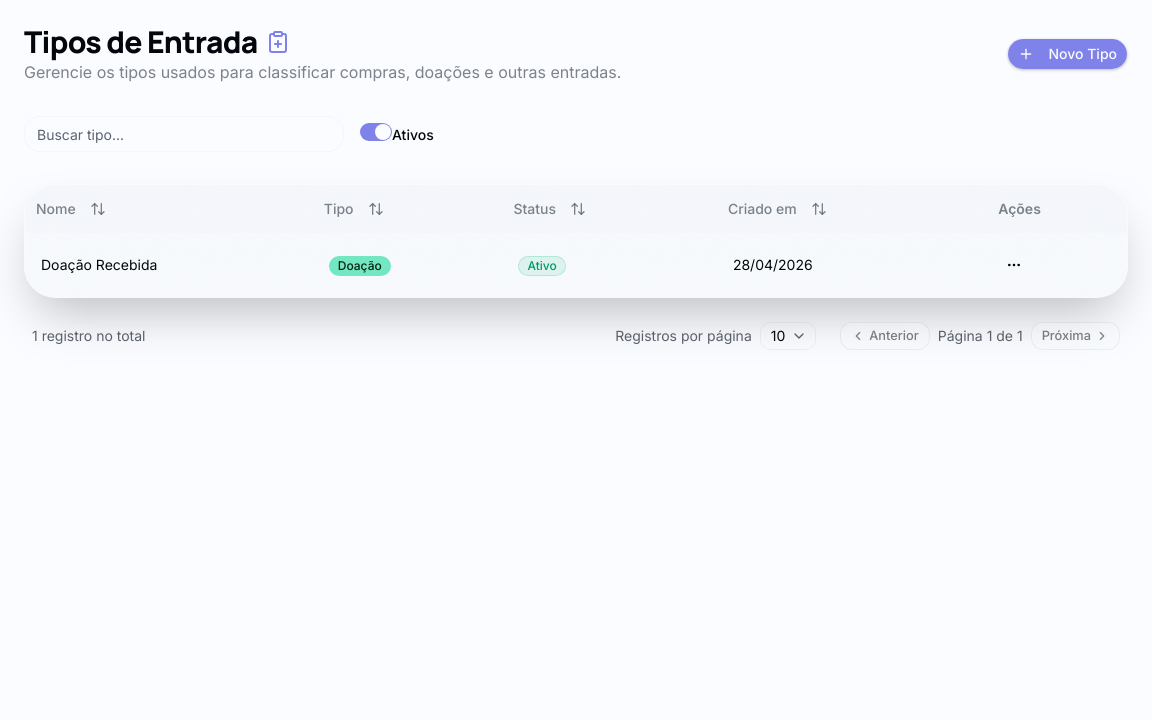
Scenario: TiposEntradaPage › can open delete dialog and confirm
Check: the text "Doação Recebida" is shown, box [25,233,313,297]
What coordinates should you click on to do the following:
click the button named "abrir menu"
I would click on:
 (1014, 265)
Its box is [998,249,1030,281].
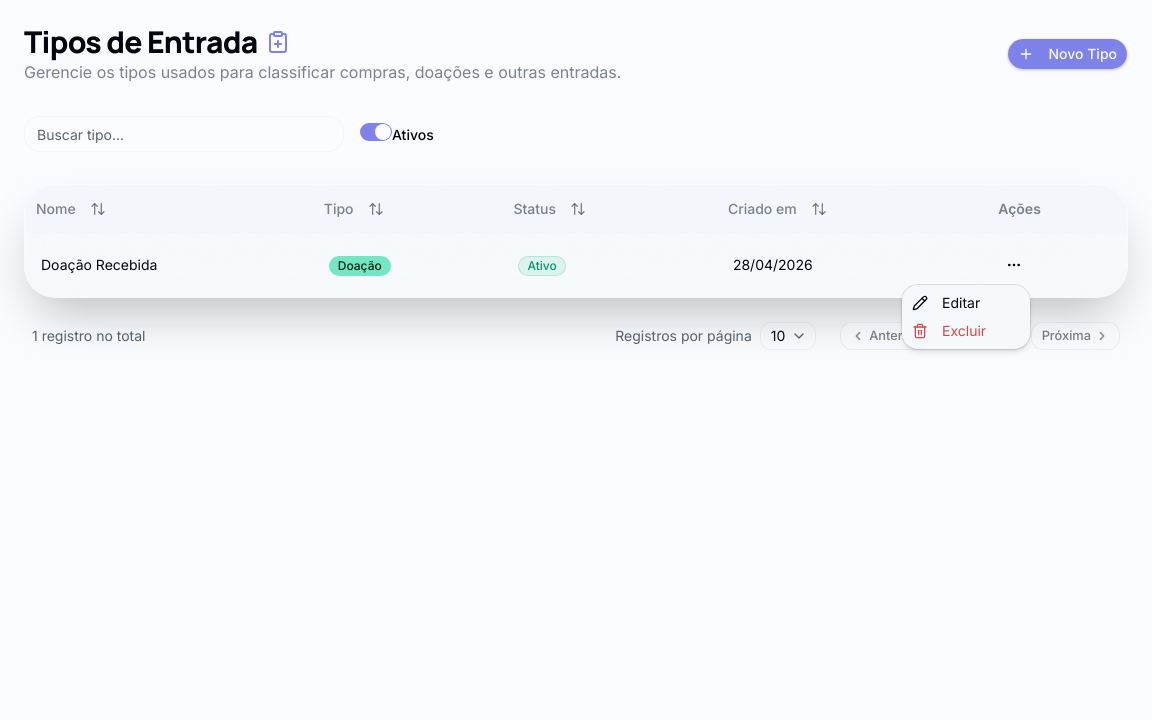
Check: the menu item "Excluir" is shown
What coordinates should you click on to do the following:
click the menu item "Excluir"
I would click on:
 (949, 330)
Its box is [912,322,986,339].
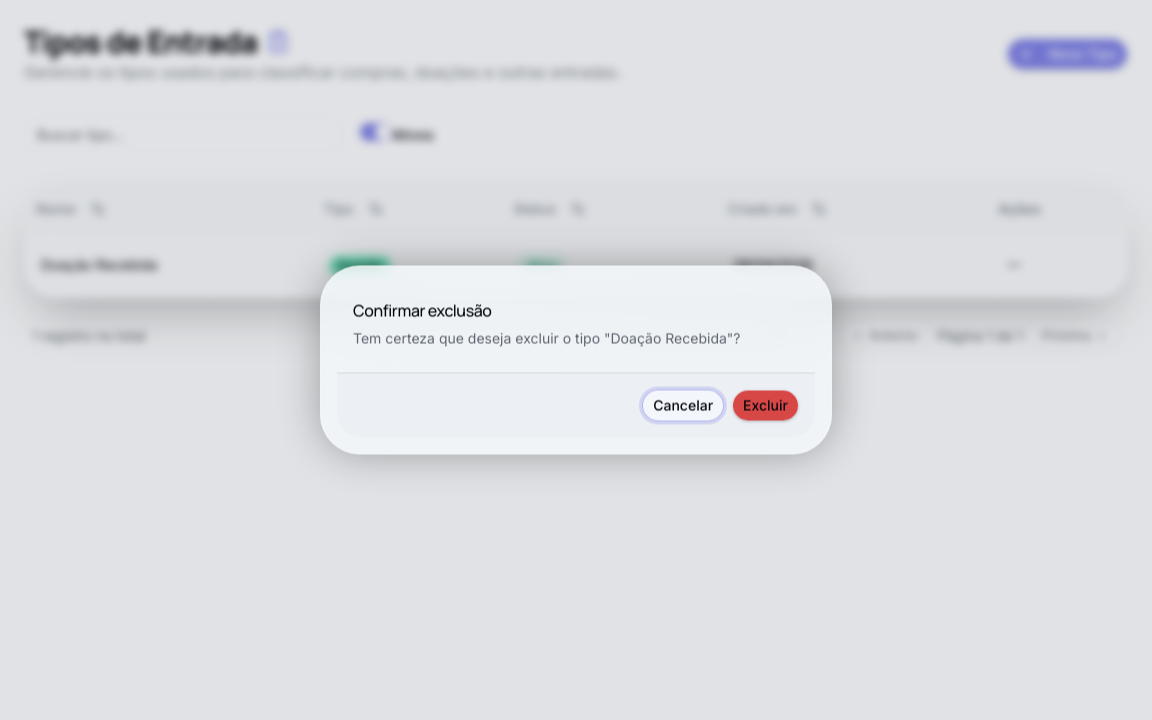
Check: the dialog is shown, box [320,266,832,454]
What coordinates should you click on to do the following:
click the button "Excluir"
I would click on:
 (766, 406)
Its box is [732,390,799,422].
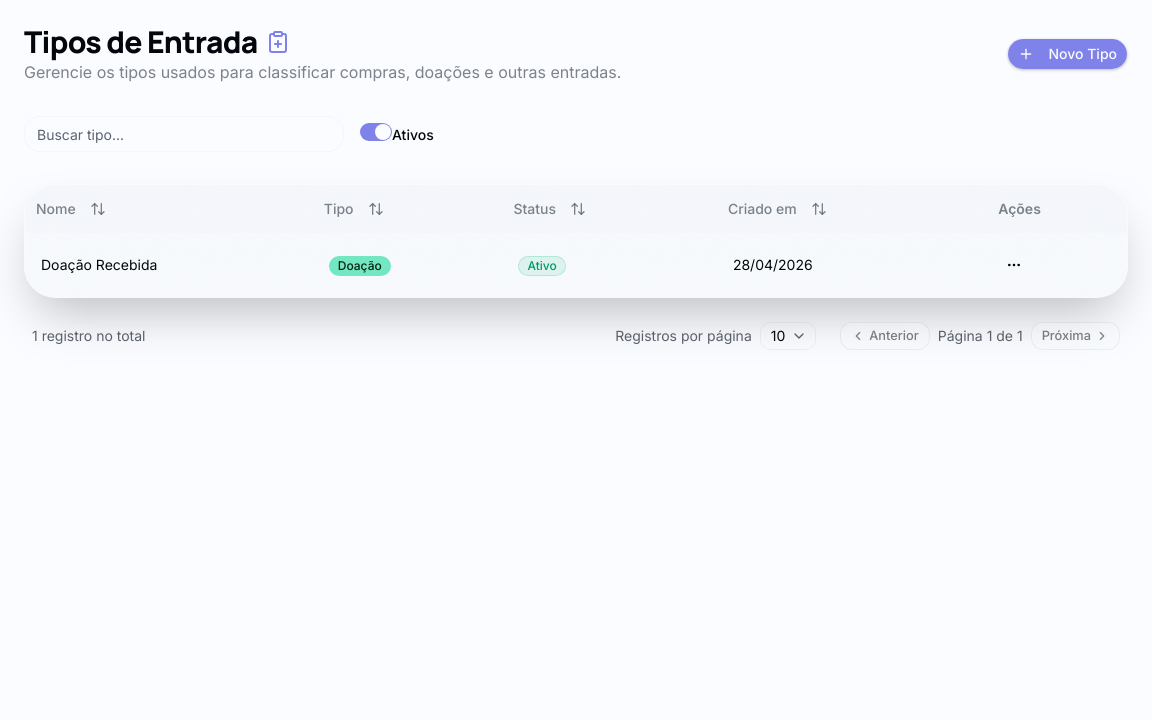
Check: the dialog is gone
